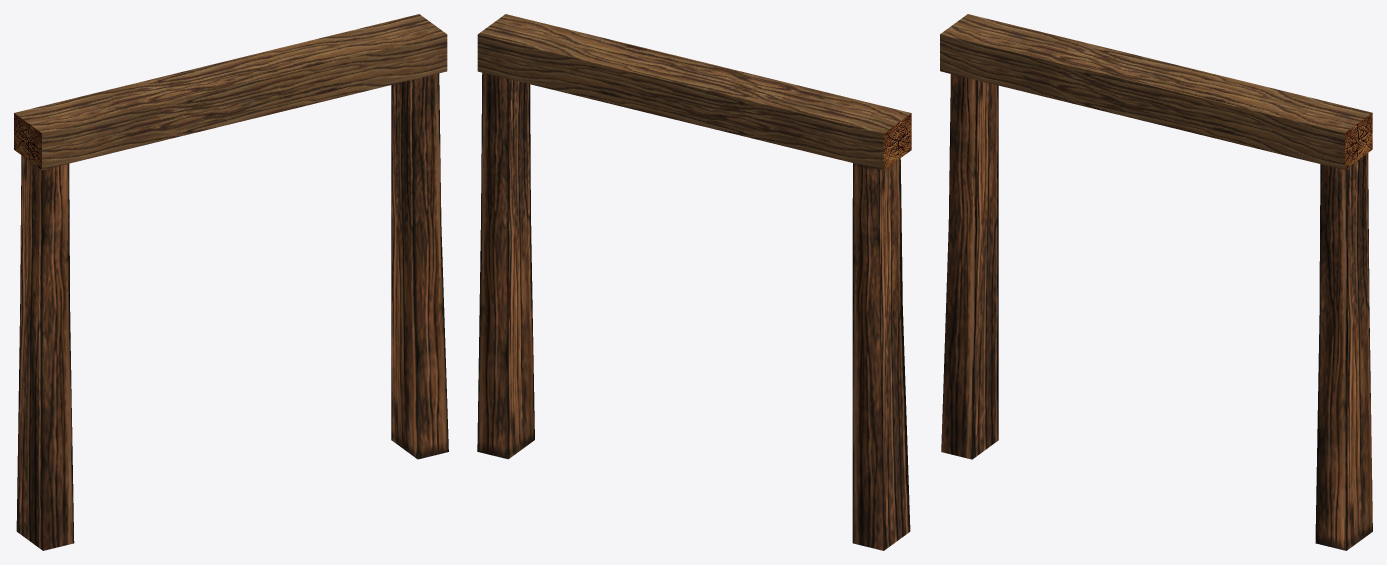
File: LAKETOWN_WAREHOUSE2_PS_WH2_DOORFRAME377__GX.fbx
3 renders of one model, left to right at view 1: azimuth 30°, elevation 25°; view 2: azimuth 150°, elevation 25°; view 3: azimuth 330°, elevation 25°, orthographic.
Visible parts, largest first — view 1: LAKETOWN_WAREHOUSE2_PS_WH2_DOORFRAME377__GX; view 2: LAKETOWN_WAREHOUSE2_PS_WH2_DOORFRAME377__GX; view 3: LAKETOWN_WAREHOUSE2_PS_WH2_DOORFRAME377__GX.
Boxes of the visible parts, x1,y1,x2,y2 form: LAKETOWN_WAREHOUSE2_PS_WH2_DOORFRAME377__GX: (14,14,448,550); LAKETOWN_WAREHOUSE2_PS_WH2_DOORFRAME377__GX: (477,14,911,550); LAKETOWN_WAREHOUSE2_PS_WH2_DOORFRAME377__GX: (940,14,1372,550).
Bounding box in the file's own units: 34050 × 33420 × 4035.
Materials: 3 (3 with a texture image).
